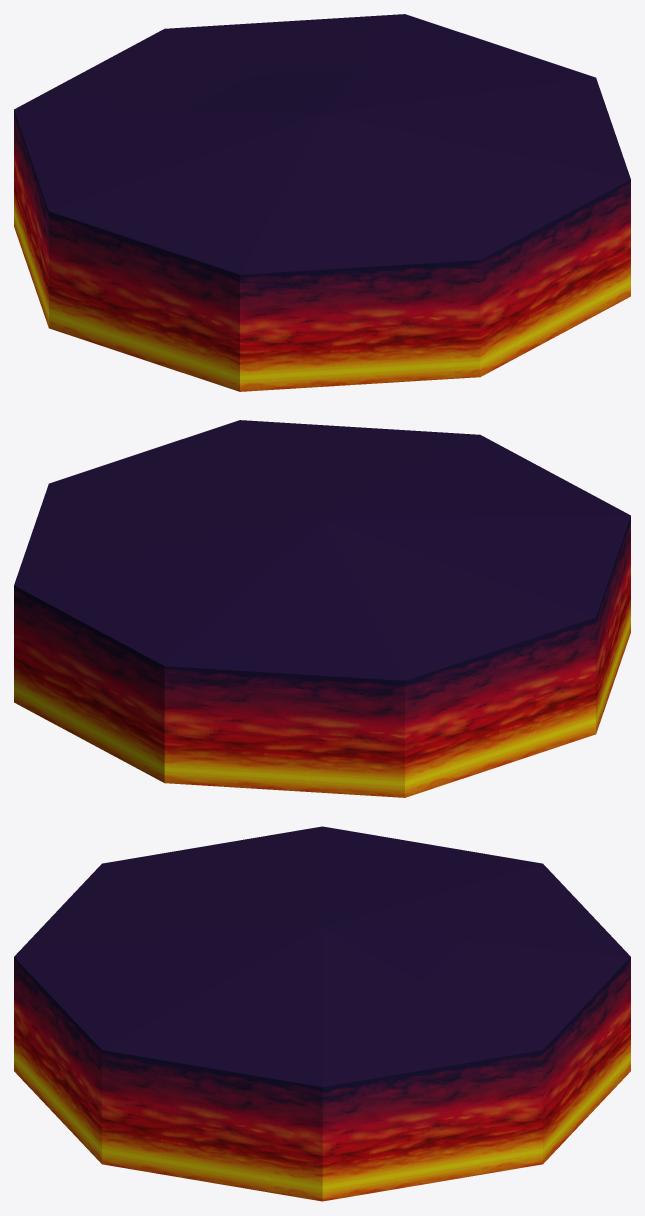
The model's file is koopa_course-koopa_course_V.glb.
The picture shows the model from 3 angles, top to bottom: view 1: azimuth 30°, elevation 25°; view 2: azimuth 150°, elevation 25°; view 3: azimuth 270°, elevation 25°; orthographic projection. The views are drawn at different scales.
Visible parts, largest first — view 1: koopa_course_V; view 2: koopa_course_V; view 3: koopa_course_V.
Part boxes in pixels (x1,y1,x2,y2): koopa_course_V: [14, 14, 630, 391]; koopa_course_V: [14, 420, 630, 797]; koopa_course_V: [14, 826, 630, 1201].
Size of the model in its own units: 1254 by 343 by 1254.
2 materials, 2 textured.
